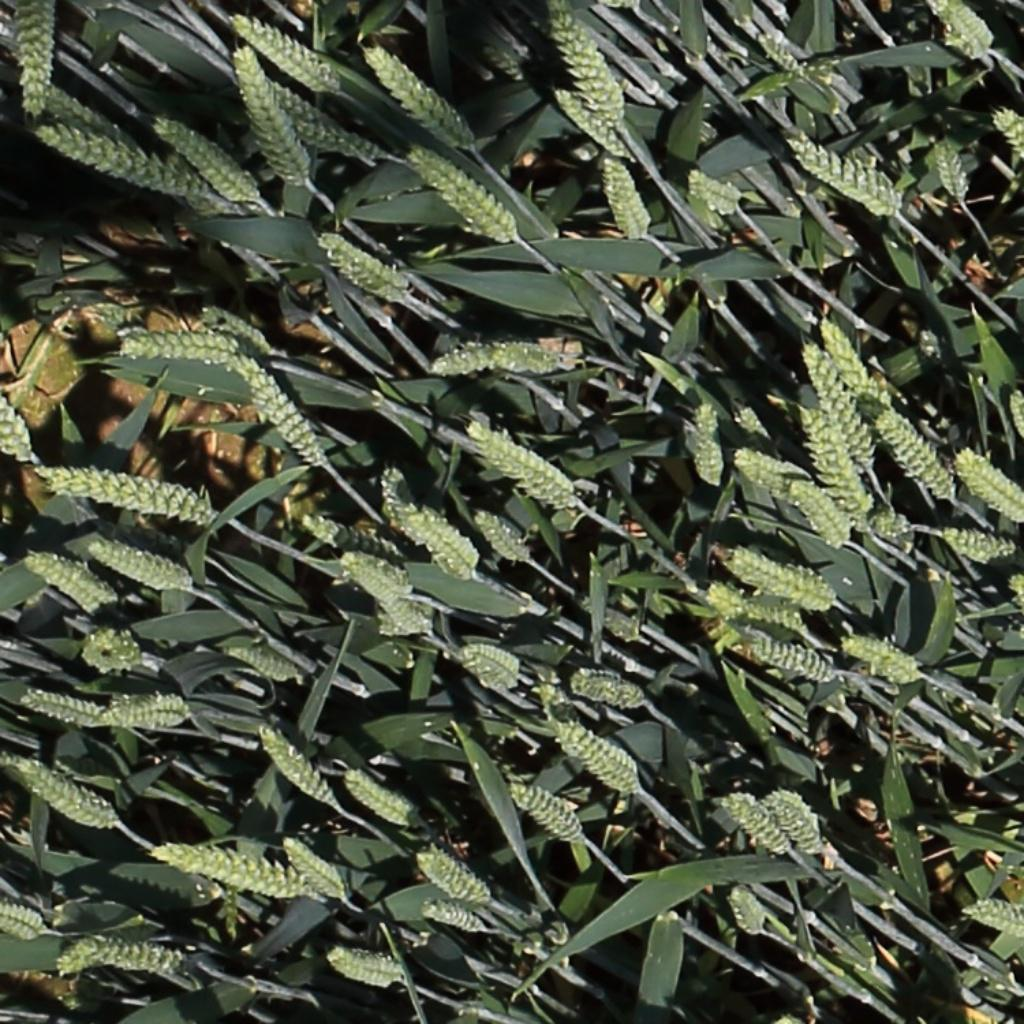0-0: (33, 455, 220, 535), (226, 349, 327, 471), (26, 126, 192, 196), (230, 35, 304, 191), (361, 43, 468, 150), (406, 146, 516, 240), (798, 339, 875, 468), (546, 2, 622, 131), (798, 398, 868, 531), (152, 114, 253, 197), (398, 498, 485, 594), (148, 846, 308, 898), (232, 17, 337, 96), (548, 49, 628, 148), (785, 132, 892, 206), (873, 408, 957, 502), (252, 723, 335, 812), (549, 712, 636, 793), (466, 424, 569, 490), (13, 761, 110, 828), (15, 6, 68, 122), (550, 84, 630, 158), (41, 86, 136, 147), (348, 563, 427, 636), (813, 311, 876, 402), (293, 513, 400, 565), (727, 551, 828, 606), (924, 1, 1002, 67), (152, 158, 236, 218), (84, 542, 189, 589), (123, 326, 234, 370), (787, 475, 850, 552), (719, 793, 790, 860), (953, 453, 1024, 520), (599, 148, 649, 243), (486, 450, 570, 506), (277, 836, 345, 905), (319, 234, 405, 288), (731, 637, 834, 681), (24, 554, 109, 606), (703, 587, 800, 632), (414, 327, 500, 377), (765, 793, 826, 861), (506, 786, 580, 842), (278, 113, 376, 154), (339, 771, 409, 828), (413, 853, 487, 906), (468, 506, 531, 566), (196, 304, 270, 354), (488, 339, 584, 376), (99, 688, 190, 726), (839, 637, 921, 679), (457, 644, 530, 689), (692, 397, 727, 490), (854, 502, 924, 548), (929, 129, 969, 206), (17, 692, 105, 726), (375, 458, 410, 542), (723, 876, 767, 940), (0, 386, 35, 466), (57, 946, 178, 969), (323, 951, 404, 984), (993, 106, 1024, 192), (223, 647, 299, 682), (566, 674, 644, 708), (760, 33, 810, 84), (334, 554, 406, 589), (685, 167, 741, 211), (940, 528, 1018, 558), (733, 450, 806, 480), (419, 905, 484, 933), (963, 903, 1024, 932), (0, 905, 46, 936), (1007, 570, 1024, 643), (1008, 382, 1024, 434)
